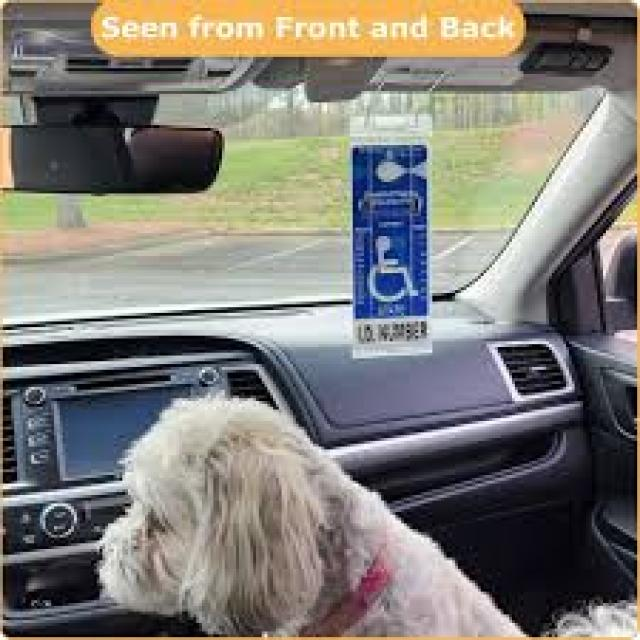car-handicap-placard: (369, 236, 419, 304)
